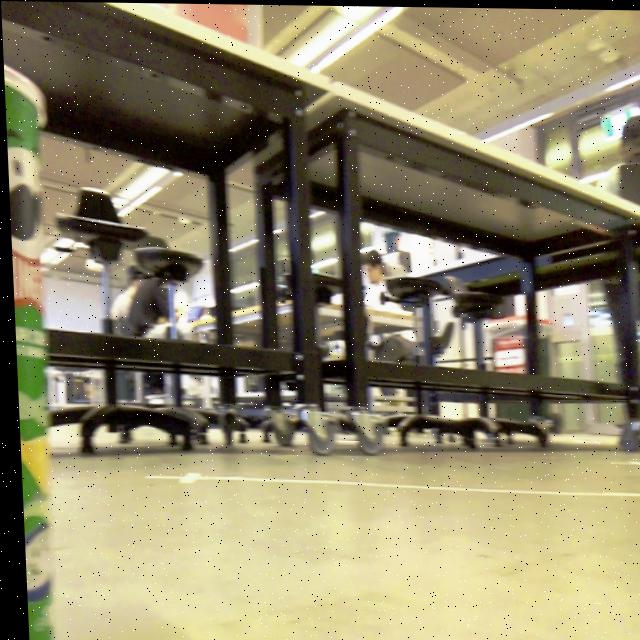greenpringles: (1, 19, 100, 640)
